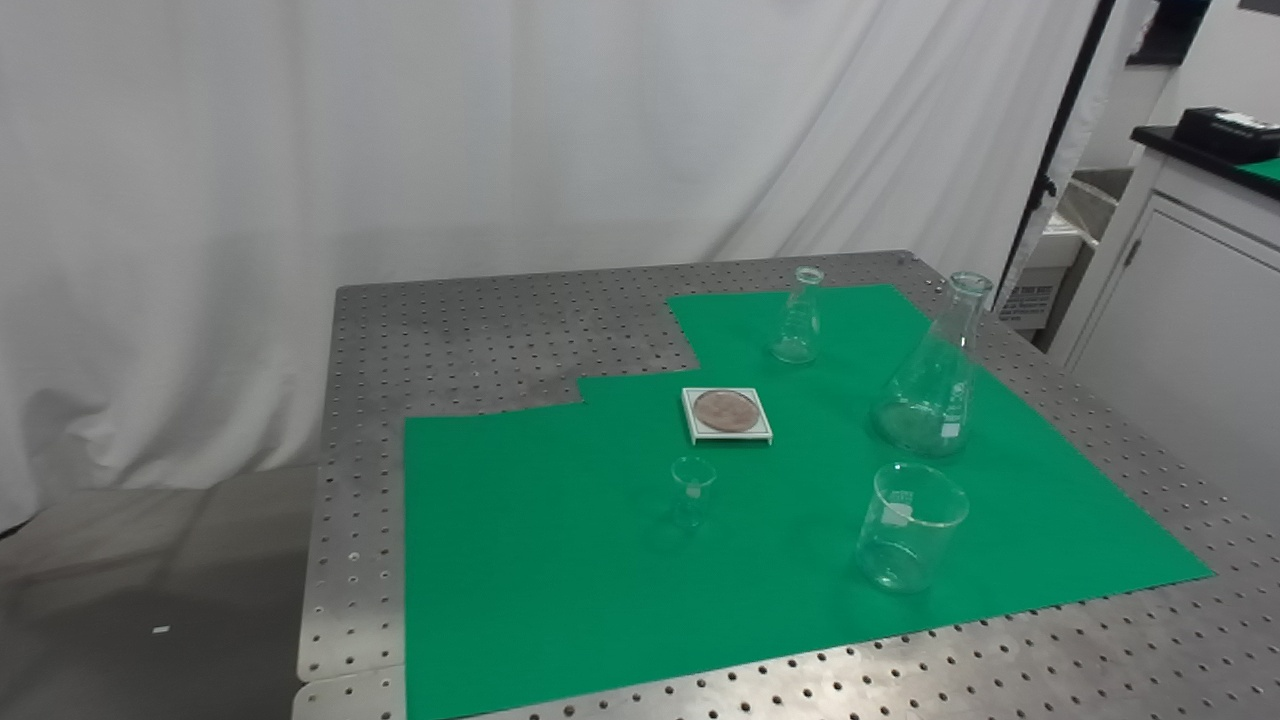glass: (866, 268, 996, 465), (849, 458, 972, 599), (763, 262, 828, 371), (666, 454, 720, 534)
plate: (677, 383, 776, 449)
